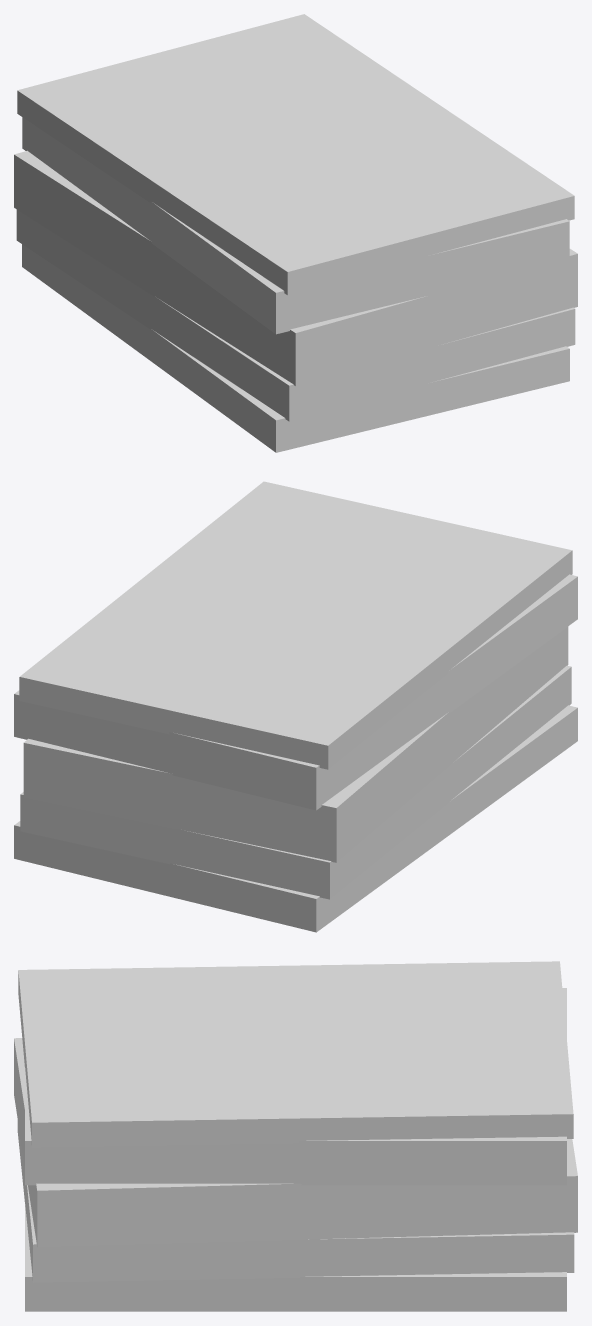
The model's file is Office_Files_A.obj.
3 renders of one model, top to bottom at view 1: azimuth 30°, elevation 25°; view 2: azimuth 150°, elevation 25°; view 3: azimuth 270°, elevation 25°, orthographic. The views are drawn at different scales.
Visible parts, largest first — view 1: Office_Files_A; view 2: Office_Files_A; view 3: Office_Files_A.
Part boxes in pixels (x1,y1,x2,y2): Office_Files_A: [14, 14, 577, 452]; Office_Files_A: [14, 481, 577, 932]; Office_Files_A: [14, 961, 577, 1311].
Bounding box in the file's own units: 0.2667 × 0.1436 × 0.38.
